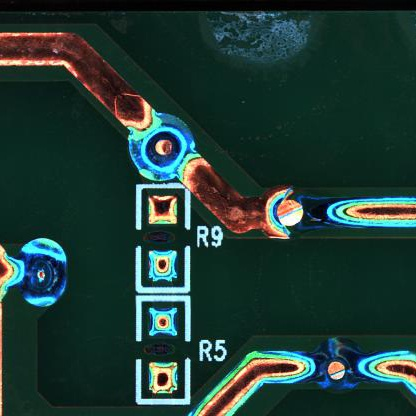spot: (128, 111, 195, 178), (261, 183, 318, 241), (21, 237, 66, 310), (309, 333, 363, 393)
